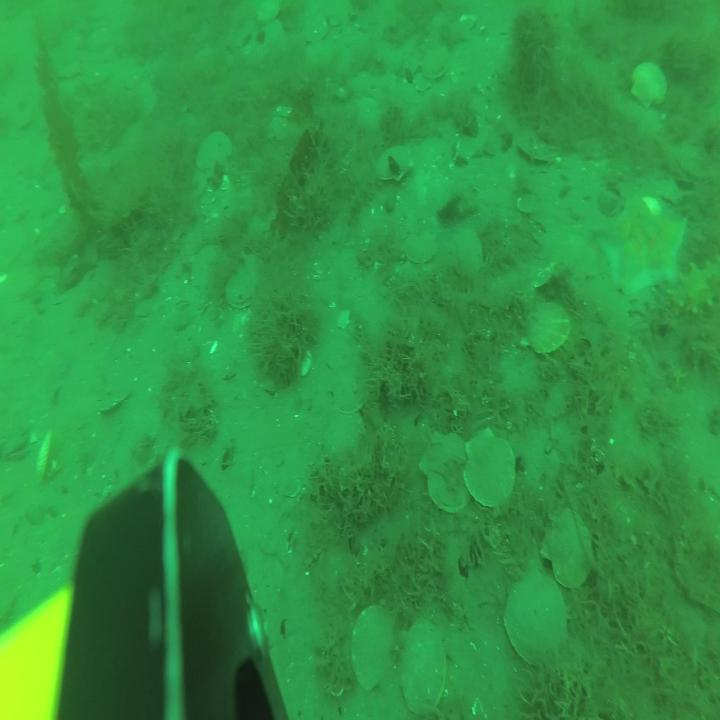holothurian: (671, 246, 720, 318)
scallop: (504, 571, 568, 668), (397, 623, 450, 719), (419, 434, 473, 524), (544, 508, 596, 598), (461, 431, 517, 514), (352, 607, 400, 693), (525, 300, 575, 360), (446, 227, 486, 279), (197, 131, 237, 179), (224, 262, 259, 316), (192, 246, 228, 296), (631, 65, 669, 110), (404, 226, 439, 272), (374, 146, 414, 185), (518, 134, 554, 172), (419, 50, 450, 82), (5, 429, 28, 467), (302, 16, 327, 47), (256, 2, 282, 29)
starfish: (600, 187, 689, 299)
